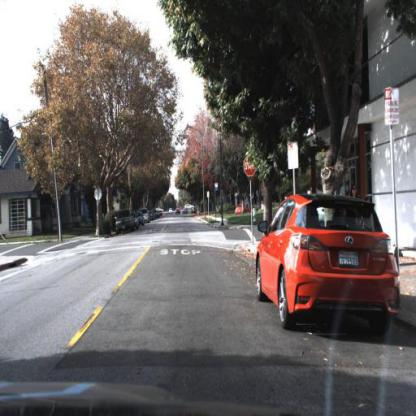car: (252, 190, 407, 344), (115, 206, 137, 238), (234, 201, 254, 219), (235, 202, 253, 215), (138, 210, 146, 226), (133, 214, 140, 232), (144, 208, 151, 224), (261, 198, 265, 212)
